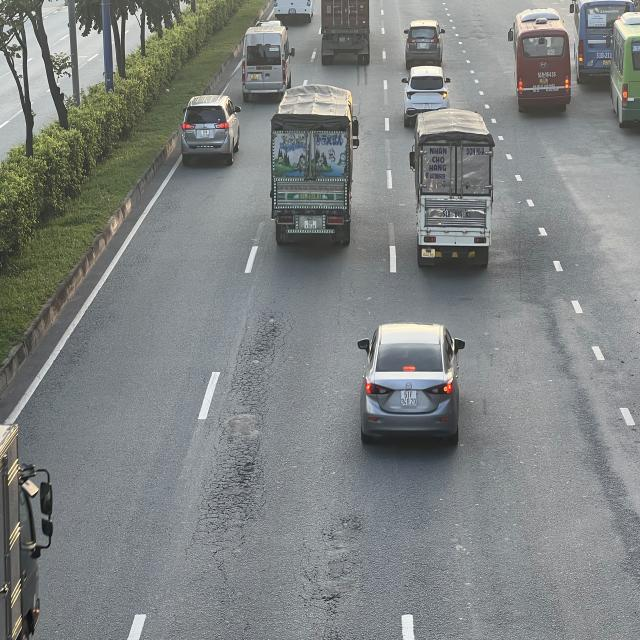car: (358, 320, 466, 446), (181, 94, 243, 166), (400, 66, 451, 121), (403, 18, 448, 62)
coach: (514, 8, 574, 111), (570, 0, 634, 84), (610, 12, 640, 128)
container: (320, 0, 373, 61)
truck: (269, 83, 359, 247), (410, 111, 495, 269), (0, 423, 53, 640)
van: (243, 24, 295, 103)
